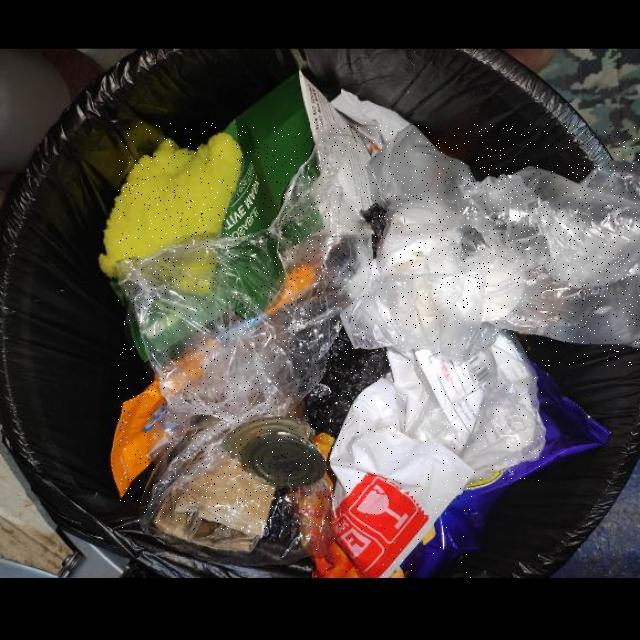metal: (225, 418, 325, 487)
plastic: (118, 122, 378, 529), (341, 124, 640, 365), (332, 327, 547, 486), (314, 389, 473, 578)
